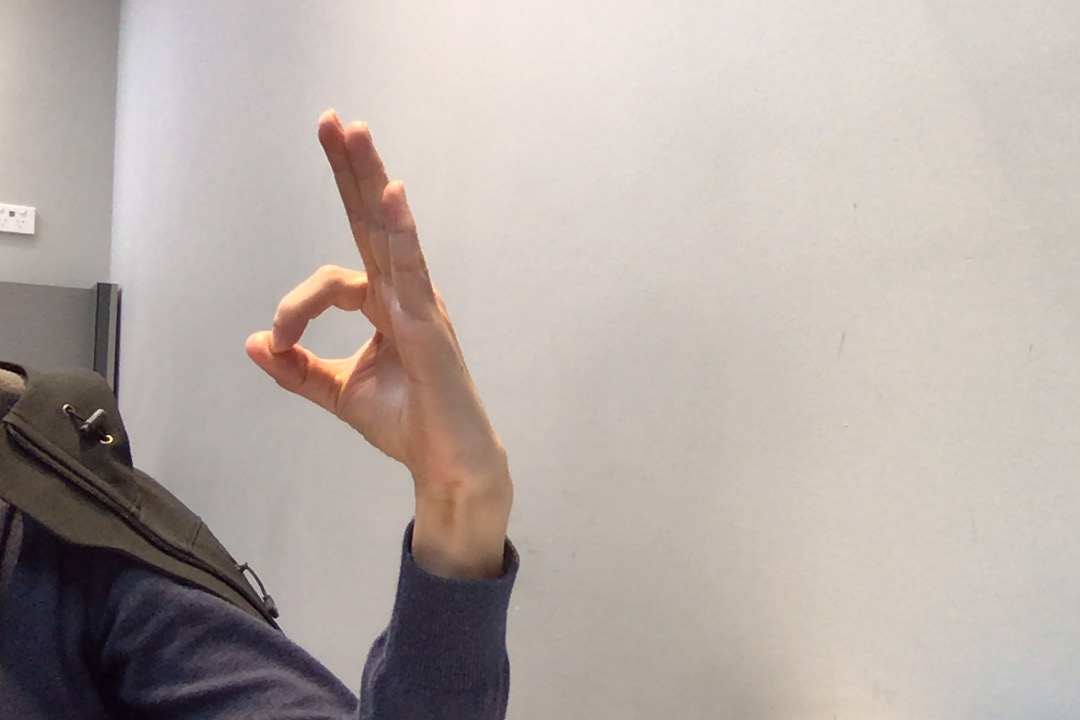oksign: (230, 100, 490, 473)
